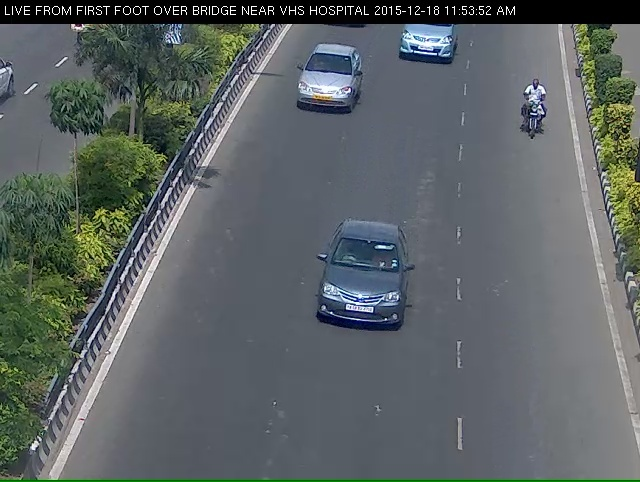Car: (316, 237, 411, 351), (291, 51, 355, 126), (386, 21, 463, 76)
Person: (511, 80, 558, 146)
